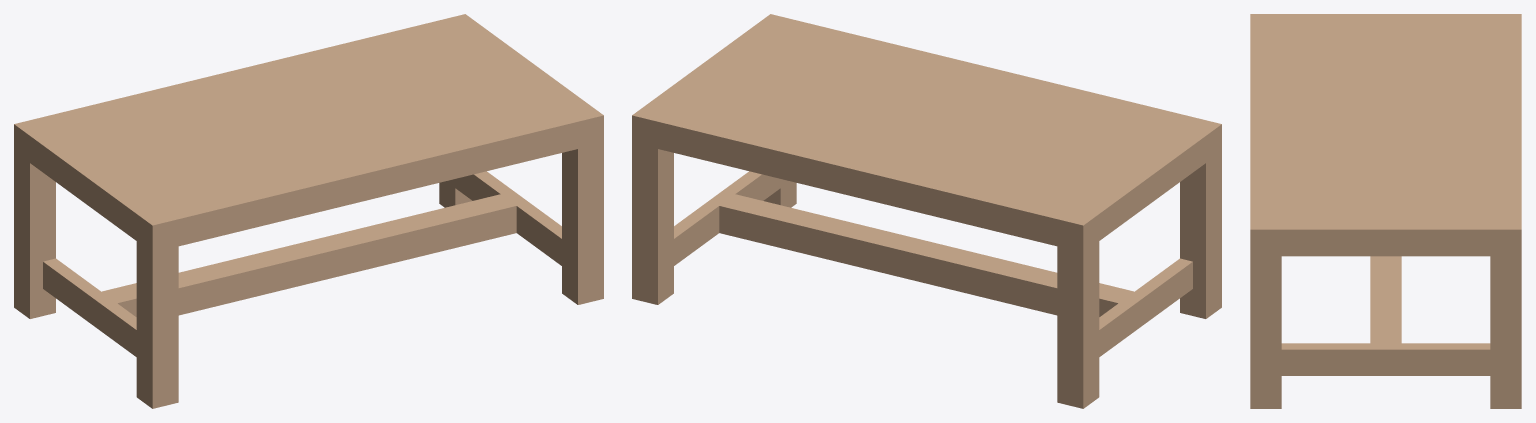
File: table.glb
3 views of the same model, side by side, from view 1: azimuth 30°, elevation 25°; view 2: azimuth 150°, elevation 25°; view 3: azimuth 270°, elevation 25° (orthographic). The views are drawn at different scales.
Visible parts, largest first — view 1: table; view 2: table; view 3: table.
Boxes of the visible parts, x1,y1,x2,y2 form: table: (14, 14, 603, 408); table: (632, 14, 1221, 408); table: (1250, 14, 1521, 408).
Bounding box in the file's own units: 0.8415 × 0.3267 × 0.4474.
